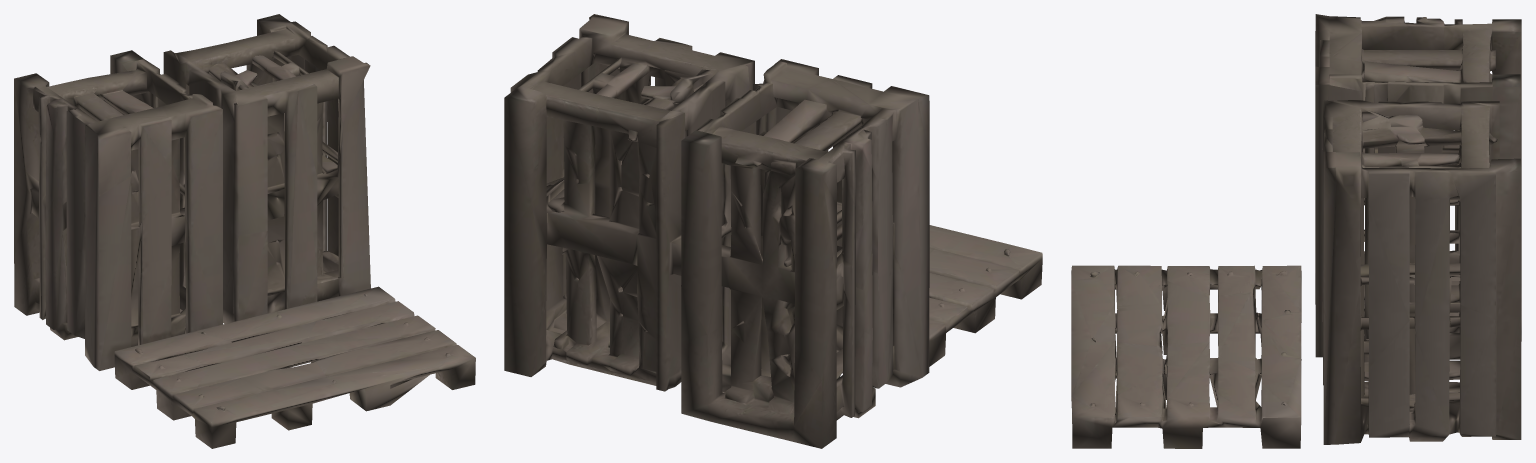
Rendered from becoPallets.glb.
3 renders of one model, left to right at view 1: azimuth 30°, elevation 25°; view 2: azimuth 150°, elevation 25°; view 3: azimuth 270°, elevation 25°, orthographic. The views are drawn at different scales.
Size of the model in its own units: 1.58 by 1.31 by 1.9.
Materials: 1 (1 with a texture image).
